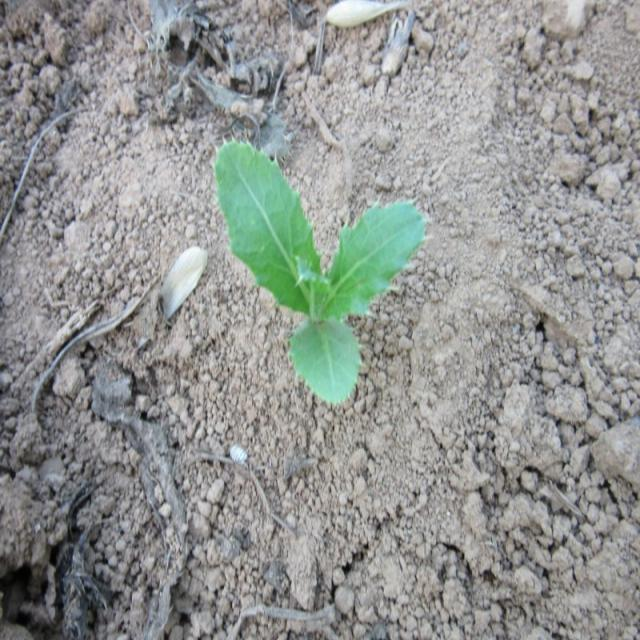cs: (212, 138, 428, 410)
